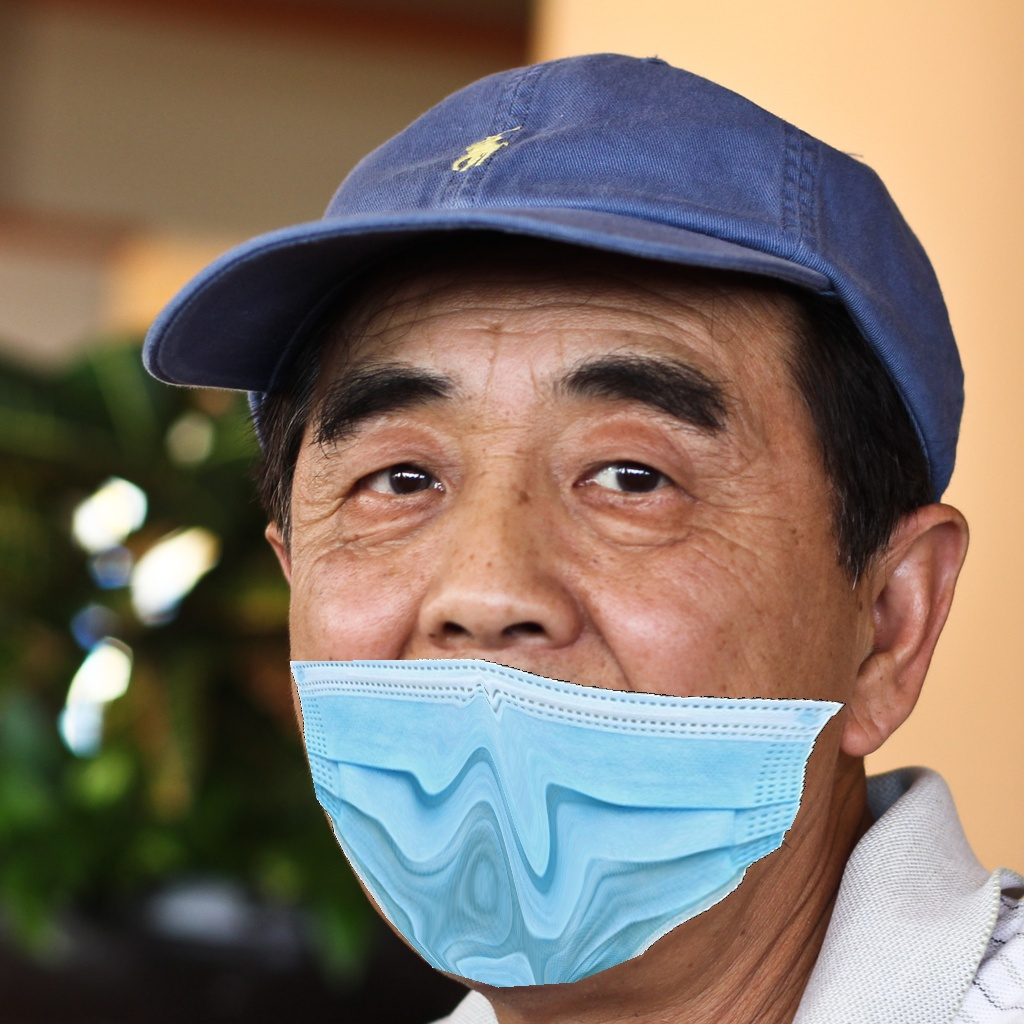mascarilla_mal_puesta: (252, 410, 889, 980)
